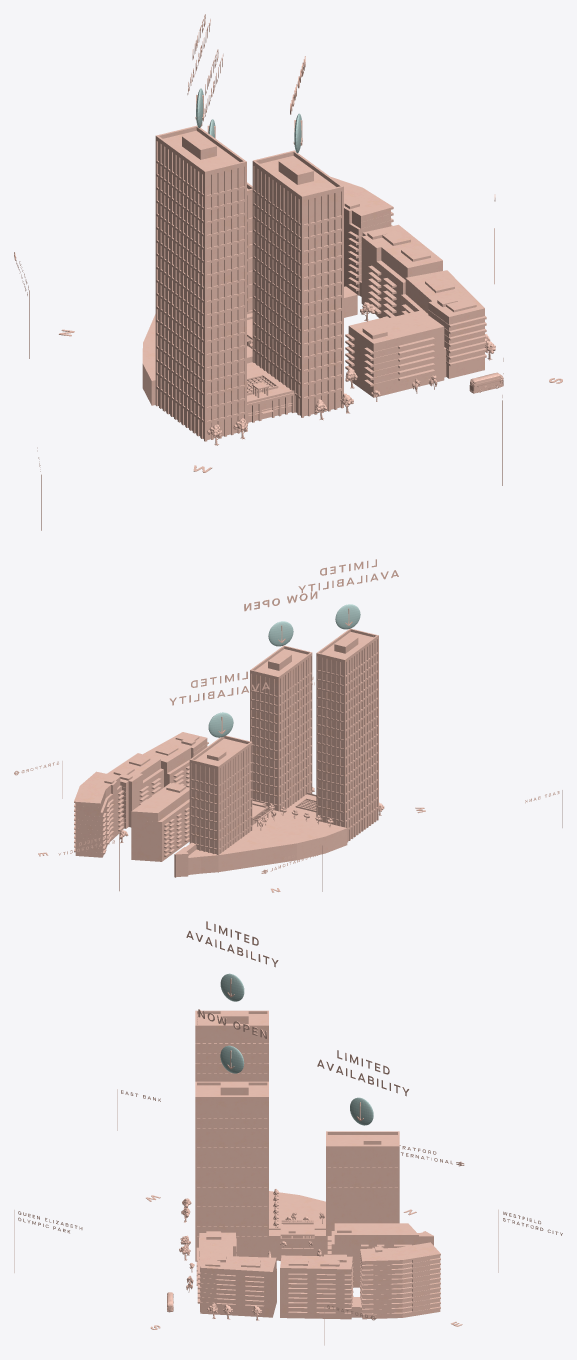
Rendered from CMS26.gltf.
The picture shows the model from 3 angles, top to bottom: view 1: azimuth 30°, elevation 25°; view 2: azimuth 150°, elevation 25°; view 3: azimuth 270°, elevation 25°; orthographic projection. The views are drawn at different scales.
Parts seen in each view (by area): view 1: Xavier, Bussell, Hows, Sandhu, Bulk, Harrison; view 2: Xavier, Bussell, Harrison, Bulk, Sandhu, Aarons, Hows, Open4, Open2, Arrow4, Arrow, Arrow3; view 3: Bussell, Sandhu, Harrison, Hows, Xavier, Bulk, Aarons, Open2, Open4, Arrow, Arrow3, Arrow4.
Boxes of the visible parts, x1=… form: Xavier: x1=155, y1=125, x2=246, y2=441; Bussell: x1=252, y1=150, x2=343, y2=417; Hows: x1=345, y1=270, x2=486, y2=397; Sandhu: x1=330, y1=176, x2=442, y2=318; Bulk: x1=29, y1=228, x2=562, y2=530; Harrison: x1=247, y1=182, x2=252, y2=314; Xavier: x1=316, y1=628, x2=378, y2=842; Bussell: x1=250, y1=645, x2=312, y2=811; Harrison: x1=174, y1=735, x2=252, y2=877; Bulk: x1=38, y1=761, x2=562, y2=892; Sandhu: x1=74, y1=753, x2=163, y2=857; Aarons: x1=131, y1=783, x2=189, y2=861; Hows: x1=143, y1=732, x2=208, y2=787; Open4: x1=169, y1=671, x2=269, y2=705; Open2: x1=298, y1=559, x2=398, y2=592; Arrow4: x1=208, y1=712, x2=233, y2=737; Arrow: x1=335, y1=604, x2=360, y2=629; Arrow3: x1=268, y1=621, x2=293, y2=646; Bussell: x1=195, y1=1081, x2=268, y2=1261; Sandhu: x1=280, y1=1242, x2=440, y2=1319; Harrison: x1=326, y1=1131, x2=433, y2=1254; Hows: x1=196, y1=1231, x2=276, y2=1317; Xavier: x1=195, y1=1010, x2=268, y2=1081; Bulk: x1=14, y1=1089, x2=498, y2=1345; Aarons: x1=327, y1=1223, x2=418, y2=1287; Open2: x1=186, y1=921, x2=278, y2=967; Open4: x1=317, y1=1050, x2=409, y2=1096; Arrow: x1=220, y1=973, x2=244, y2=1001; Arrow3: x1=220, y1=1045, x2=244, y2=1073; Arrow4: x1=350, y1=1097, x2=373, y2=1125.
Size of the model in its own units: 308 by 182 by 313.
3 materials, 2 textured.
